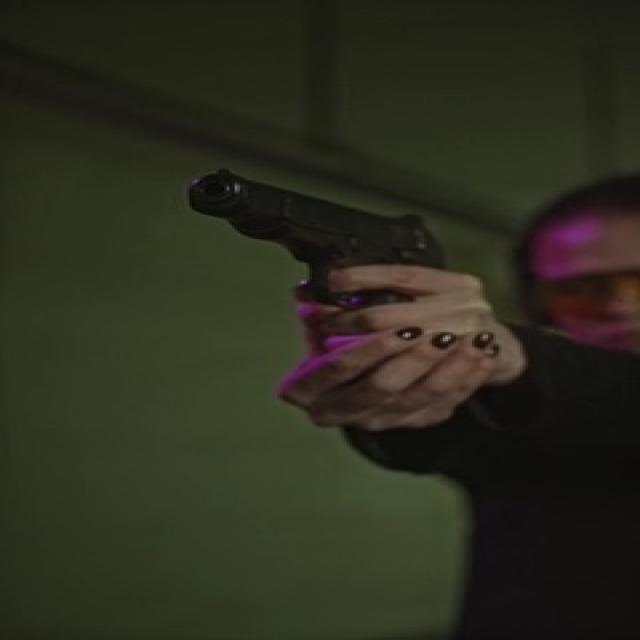Gun_Holder: (154, 162, 554, 466)
Person: (282, 138, 640, 640)
